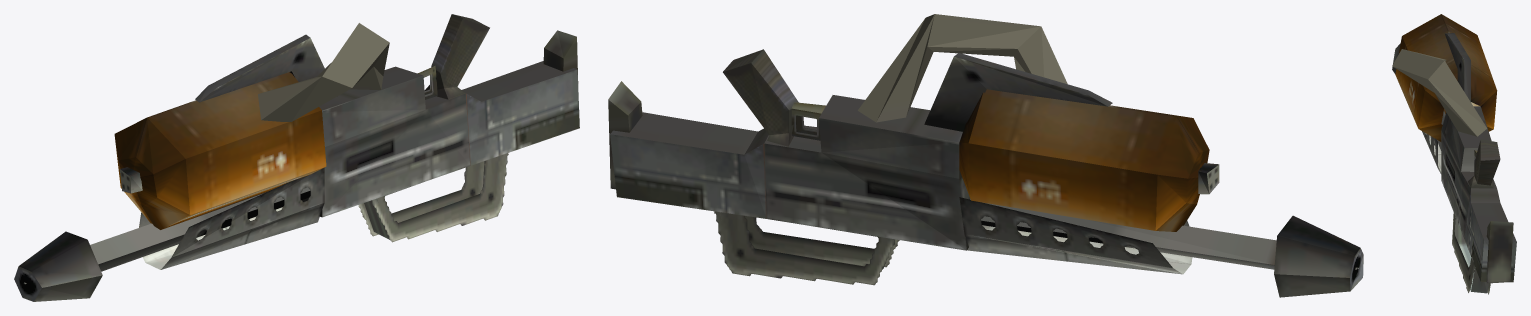
File: WHOSE.obj
3 views of the same model, side by side, from view 1: azimuth 30°, elevation 25°; view 2: azimuth 150°, elevation 25°; view 3: azimuth 270°, elevation 25° (orthographic). The views are drawn at different scales.
Visible parts, largest first — view 1: Node 0; view 2: Node 0; view 3: Node 0.
Part boxes in pixels (x1=…): Node 0: x1=14, y1=14, x2=579, y2=301; Node 0: x1=608, y1=14, x2=1363, y2=297; Node 0: x1=1392, y1=14, x2=1516, y2=294.
Bounding box in the file's own units: 1.56 × 0.61 × 0.38.
Materials: 2 (2 with a texture image).
